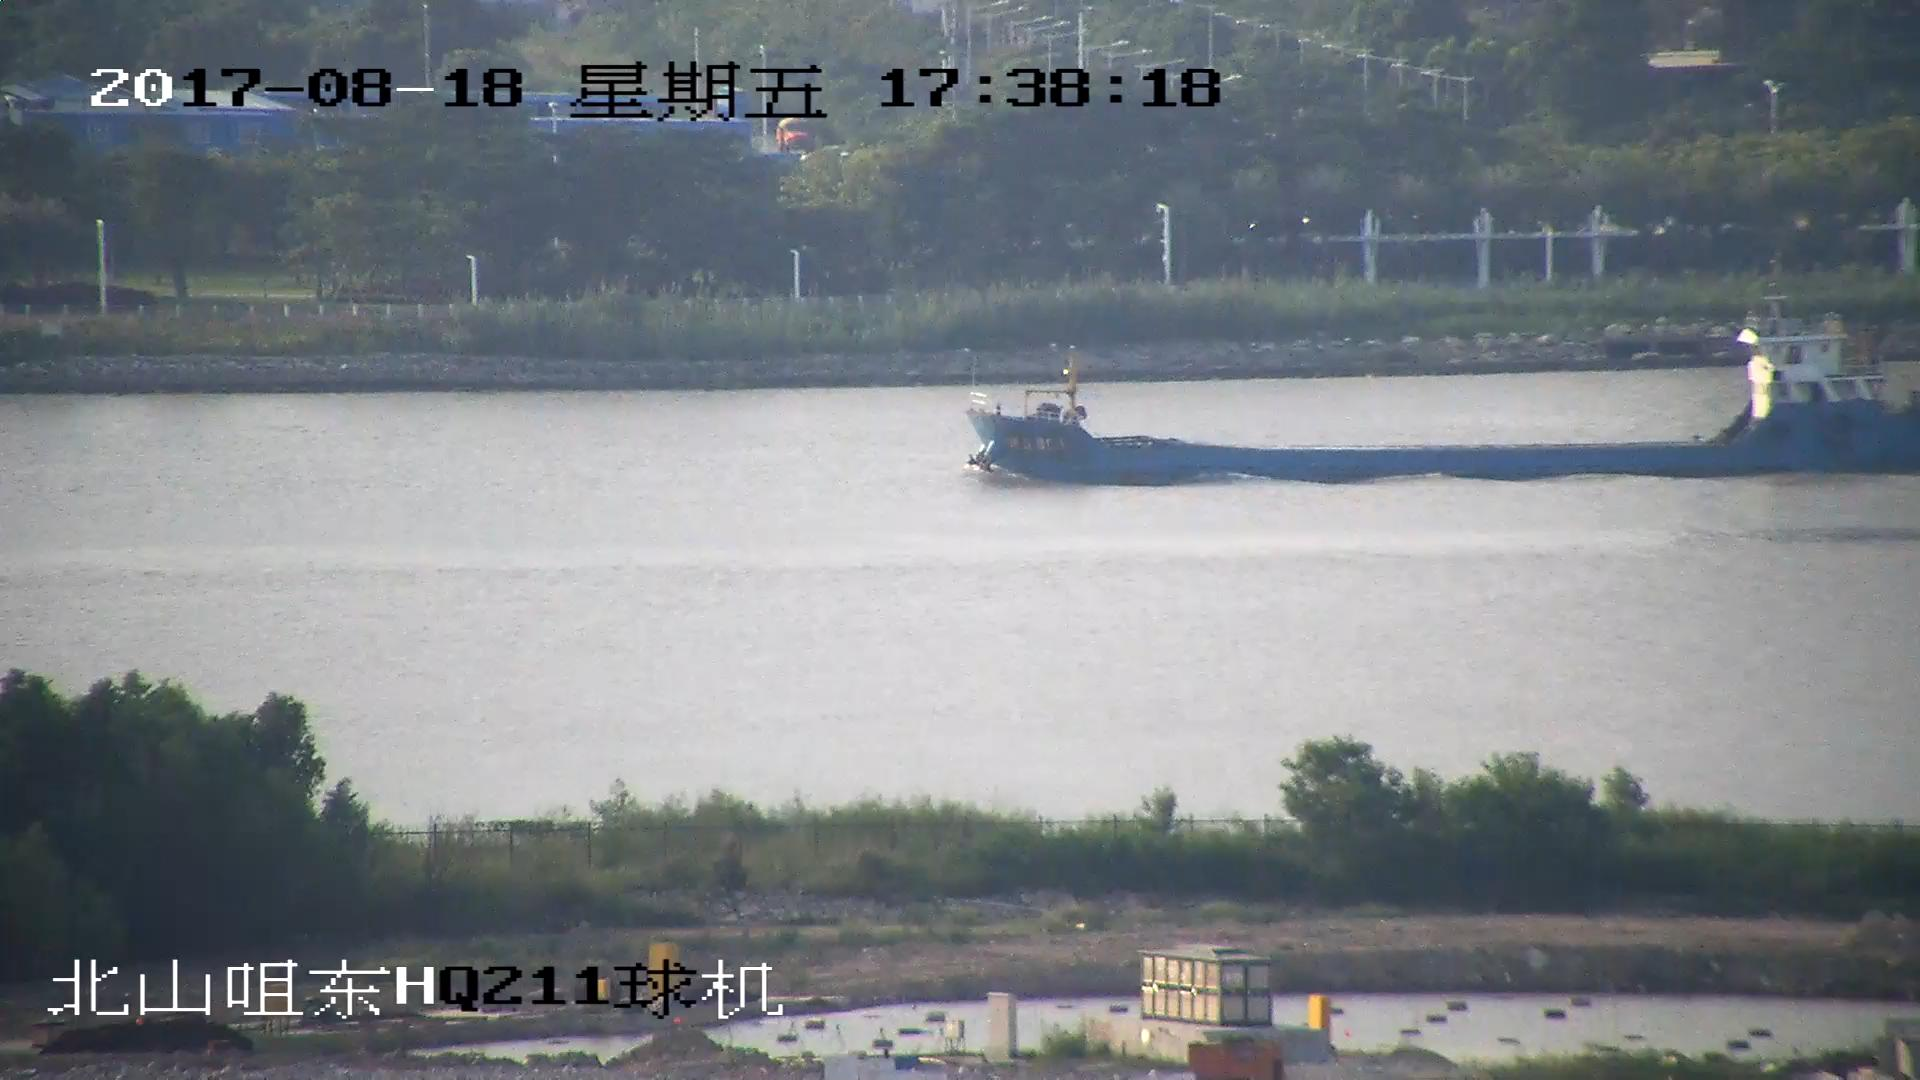general cargo ship: (963, 266, 1920, 482)
